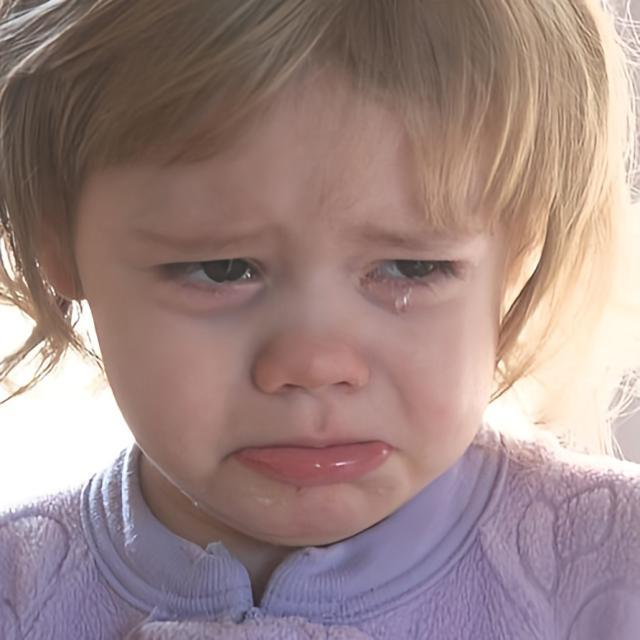sad: (72, 32, 502, 548)
